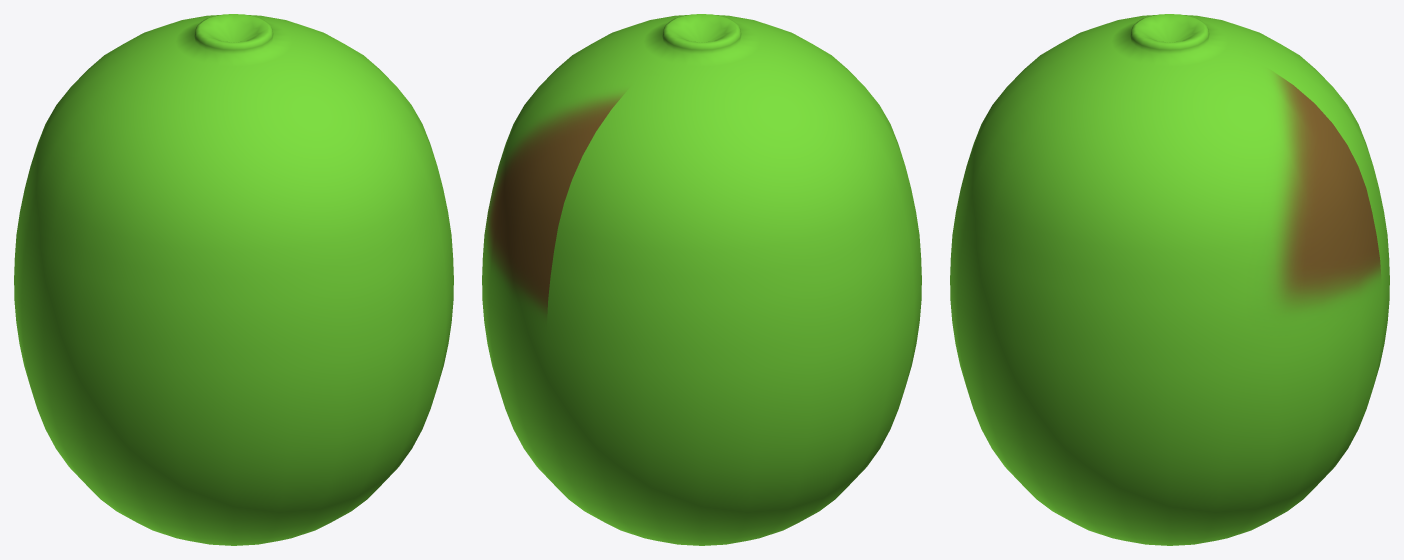
Rendered from Kiwi.fbx.
3 views of the same model, side by side, from view 1: azimuth 30°, elevation 25°; view 2: azimuth 150°, elevation 25°; view 3: azimuth 270°, elevation 25° (orthographic).
Visible parts, largest first — view 1: 球体.001; view 2: 球体.001; view 3: 球体.001.
Part boxes in pixels (bbox=[...]): 球体.001: bbox=[14, 14, 453, 545]; 球体.001: bbox=[482, 14, 921, 545]; 球体.001: bbox=[950, 14, 1389, 545].
Size of the model in its own units: 27.9 by 34.67 by 27.9.
